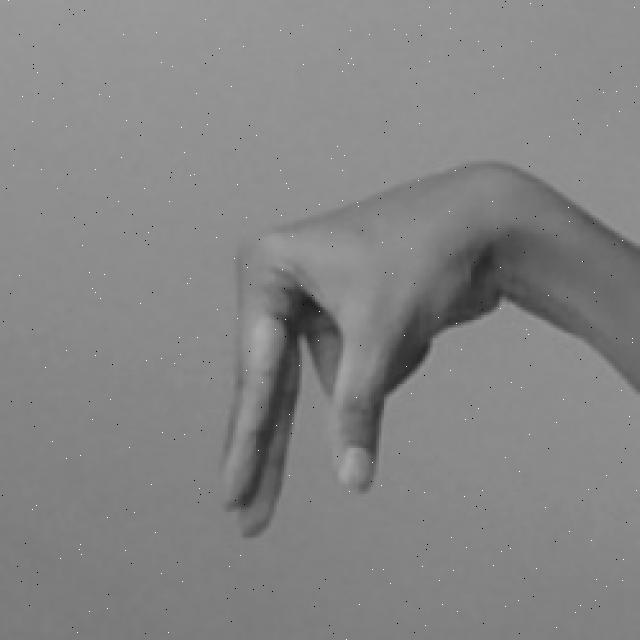Q: (210, 153, 640, 548)
